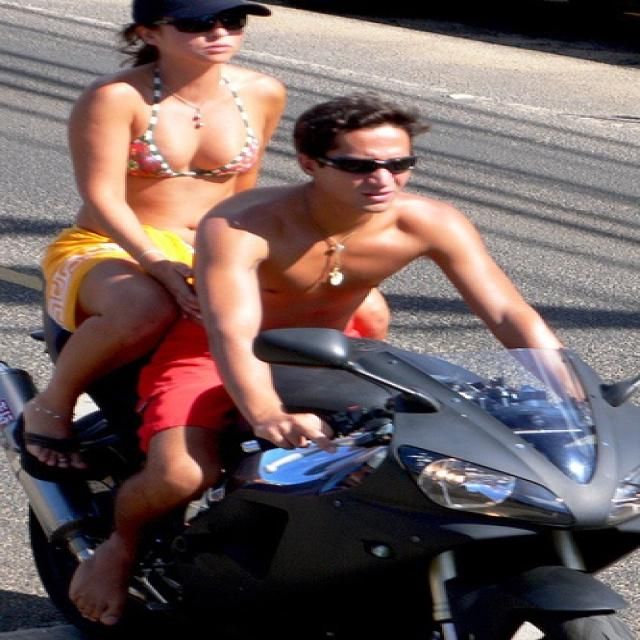motorbike: (0, 301, 638, 639)
